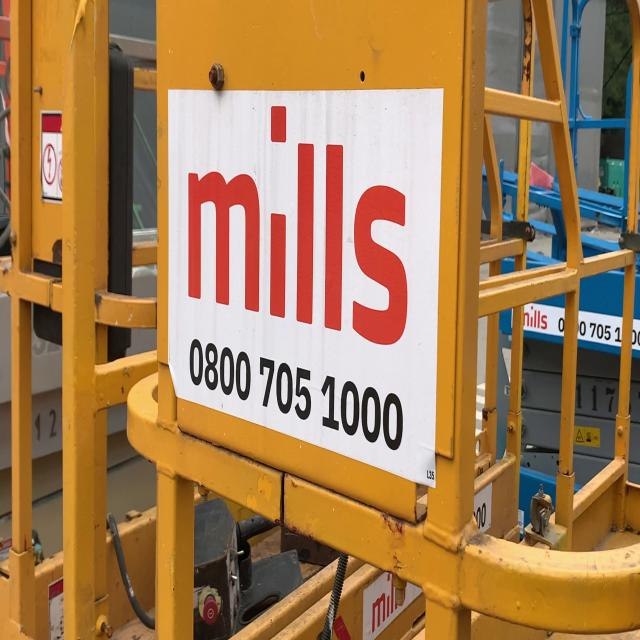Adesivos: (165, 74, 448, 490)
